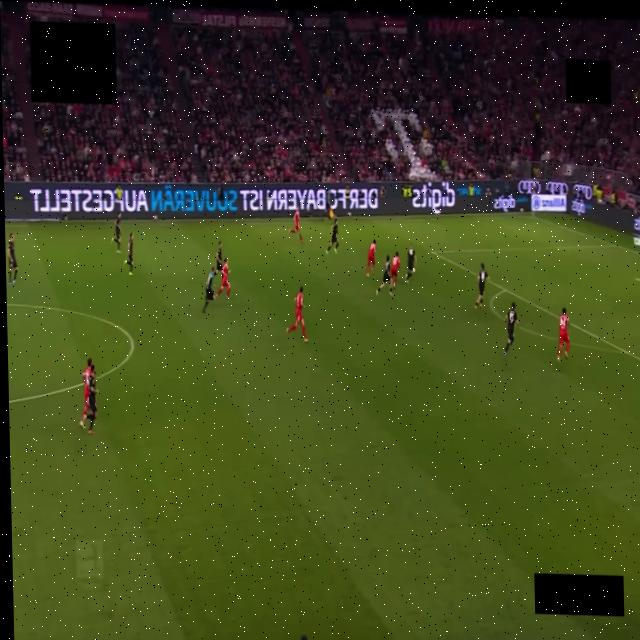ball: (412, 268, 416, 273)
player: (286, 287, 307, 342), (79, 358, 91, 428), (86, 365, 97, 433), (503, 302, 517, 355), (557, 308, 569, 360), (474, 263, 487, 309), (375, 256, 389, 294), (7, 233, 17, 285), (325, 211, 337, 253), (217, 259, 229, 299), (289, 210, 302, 242), (389, 252, 399, 293), (405, 247, 416, 283), (111, 212, 120, 252), (125, 233, 133, 275), (366, 240, 375, 277), (215, 241, 222, 274), (300, 636, 306, 639)
referee: (201, 266, 216, 314)
